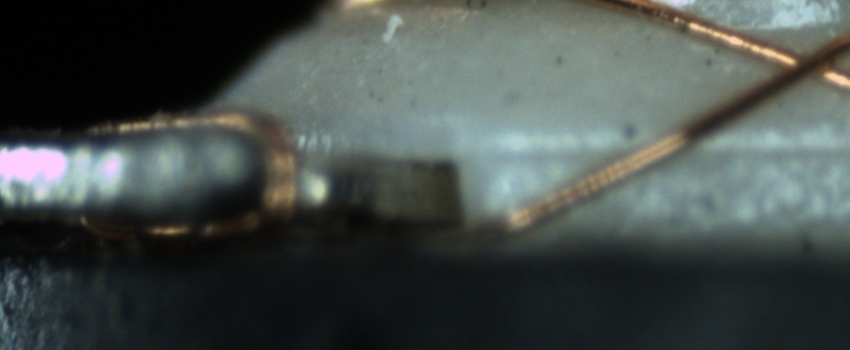CL: (755, 31, 849, 92)
DL: (478, 118, 849, 182)
TE: (65, 102, 309, 251)
